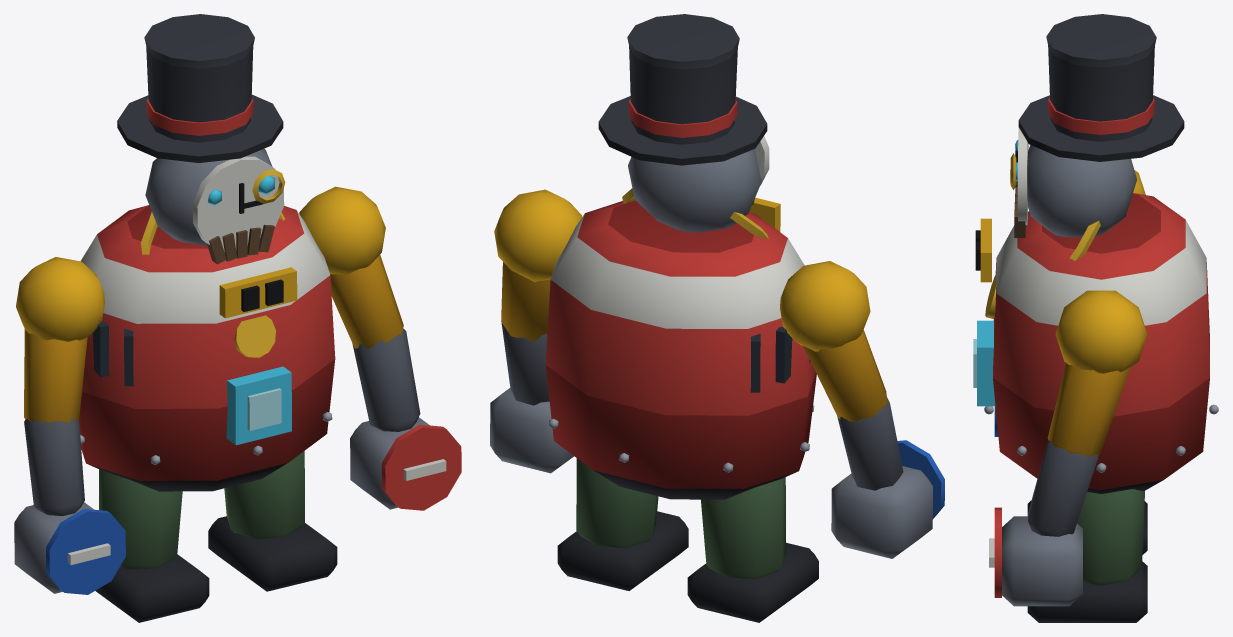
The model's file is e_boss_maschinen.glb.
3 renders of one model, left to right at view 1: azimuth 30°, elevation 25°; view 2: azimuth 150°, elevation 25°; view 3: azimuth 270°, elevation 25°, orthographic.
Visible parts, largest first — view 1: torso, head, fore_r, fore_l, arm_r, leg_l, leg_r, arm_l, core_glow, chain, eyes_glow; view 2: torso, head, leg_r, fore_r, arm_r, leg_l, arm_l, fore_l; view 3: torso, head, fore_l, arm_l, leg_l, core_glow, chain.
Boxes of the visible parts, x1,y1,x2,y2 form: torso: (79,205,335,491); head: (117,14,284,264); fore_r: (14,418,125,594); fore_l: (350,328,461,510); arm_r: (16,257,104,423); leg_l: (208,451,337,591); leg_r: (95,469,209,622); arm_l: (299,186,403,348); core_glow: (226,366,291,445); chain: (141,212,284,357); eyes_glow: (207,169,285,205); torso: (545,197,816,499); head: (598,14,769,232); leg_r: (687,477,818,622); fore_r: (831,397,944,558); arm_r: (780,261,887,422); leg_l: (557,458,688,590); arm_l: (494,189,582,341); fore_l: (490,322,573,473); torso: (975,193,1218,493); head: (1014,14,1184,237); fore_l: (989,440,1098,606); arm_l: (1047,290,1147,456); leg_l: (1027,489,1147,622); core_glow: (973,320,995,406); chain: (985,221,1100,318).
Size of the model in its own units: 5.15 by 6.47 by 2.66.
